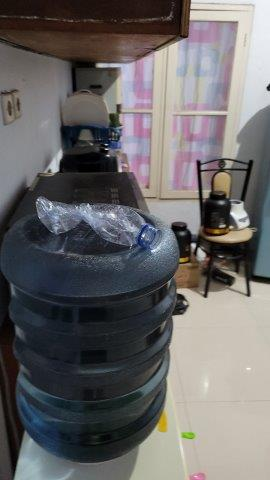botolplastik: (35, 199, 160, 251)
